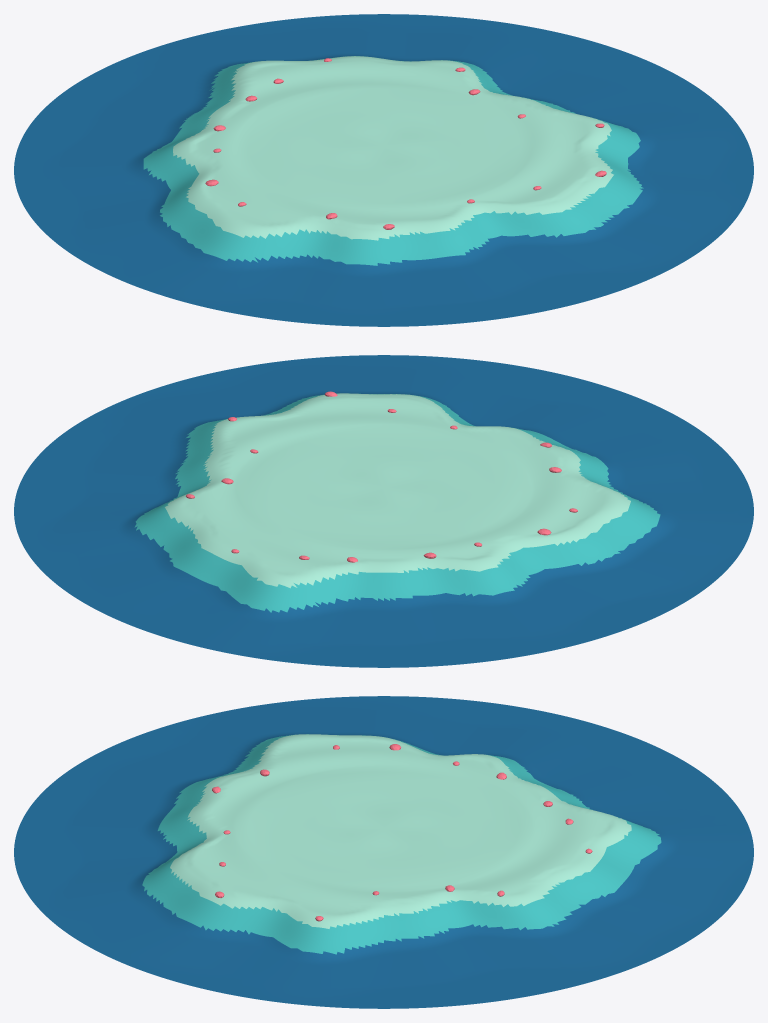
The model's file is BumperLagoon.obj.
3 views of the same model, one above another, from view 1: azimuth 30°, elevation 25°; view 2: azimuth 150°, elevation 25°; view 3: azimuth 270°, elevation 25° (orthographic).
Parts seen in each view (by area): view 1: Deep, Shelf, Reef, Coral; view 2: Deep, Shelf, Reef, Coral; view 3: Deep, Shelf, Reef, Coral.
Part boxes in pixels (<box>): Deep: <box>14,14,753,326</box>; Shelf: <box>173,56,613,240</box>; Reef: <box>143,56,643,265</box>; Coral: <box>205,58,606,229</box>; Deep: <box>14,355,753,667</box>; Shelf: <box>165,393,630,588</box>; Reef: <box>134,393,660,612</box>; Coral: <box>186,391,577,562</box>; Deep: <box>14,696,753,1008</box>; Shelf: <box>170,734,631,928</box>; Reef: <box>142,734,661,954</box>; Coral: <box>212,744,592,921</box>.
Size of the model in its own units: 300 by 12.19 by 300.
